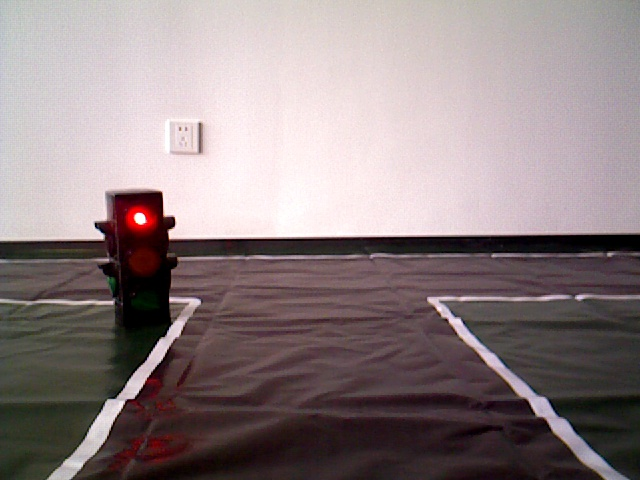red: (105, 193, 169, 324)
